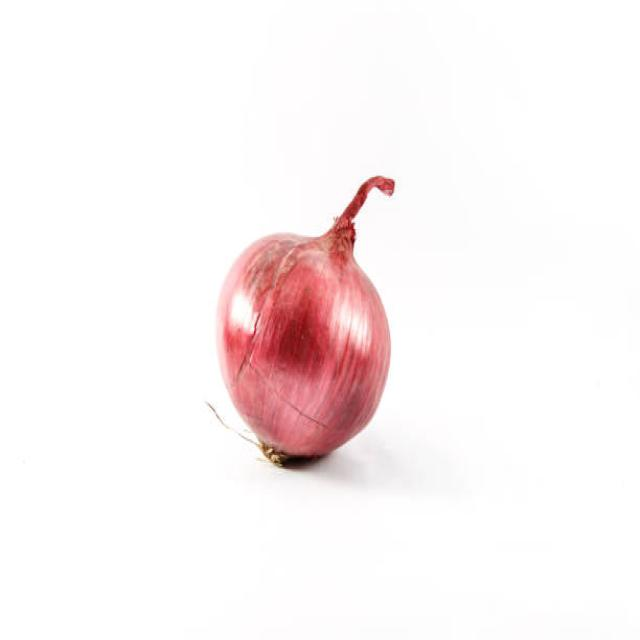onion: (204, 217, 396, 480)
